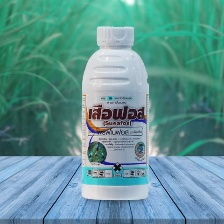insecticide: (78, 22, 151, 204)
